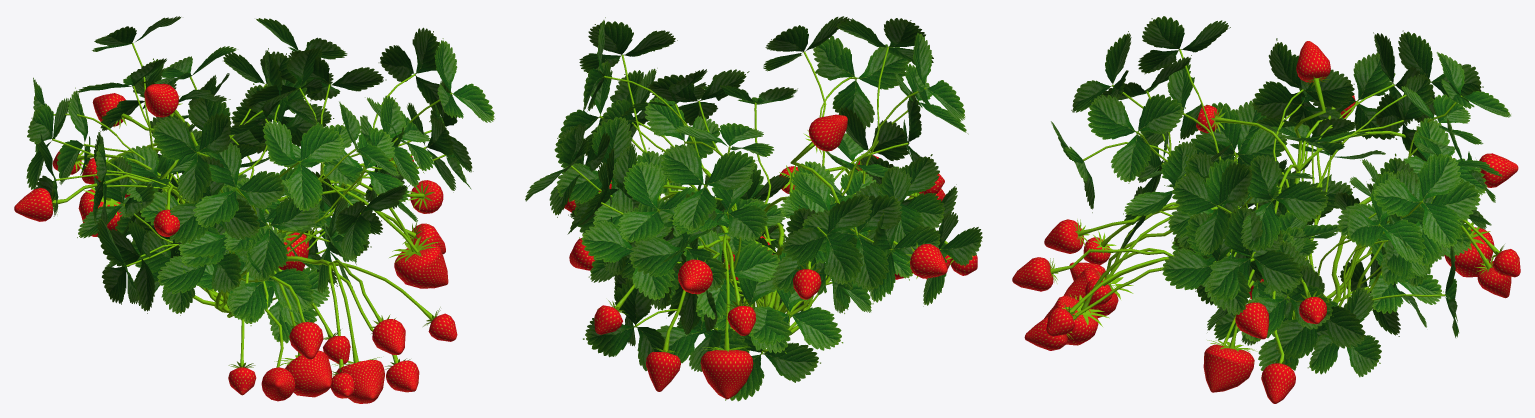
Rendered from strawberry_plant_01.obj.
3 views of the same model, side by side, from view 1: azimuth 30°, elevation 25°; view 2: azimuth 150°, elevation 25°; view 3: azimuth 270°, elevation 25° (orthographic). The views are drawn at different scales.
Parts seen in each view (by area): view 1: Strawberry_001; view 2: Strawberry_001; view 3: Strawberry_001.
Boxes of the visible parts, box(x1,y1,x2,y2) form: Strawberry_001: box(14, 16, 495, 403); Strawberry_001: box(525, 16, 982, 401); Strawberry_001: box(1012, 16, 1520, 403).
Bounding box in the file's own units: 0.4843 × 0.3214 × 0.5047.
Materials: 5 (5 with a texture image).
